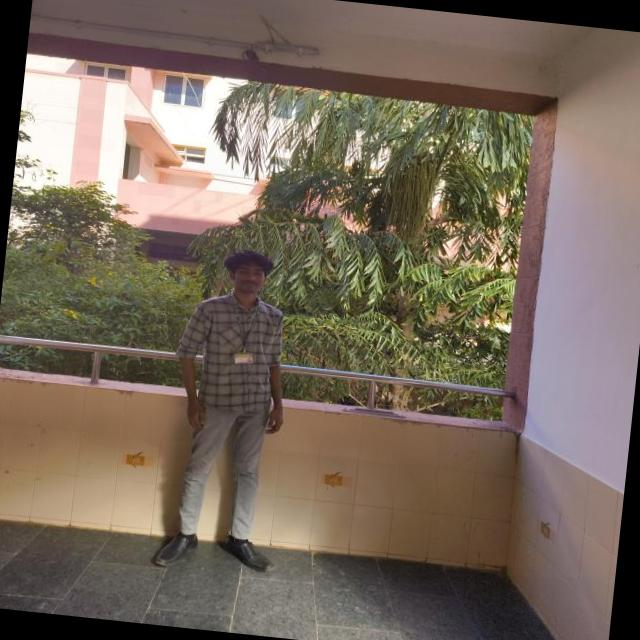id_card: (229, 303, 262, 369)
